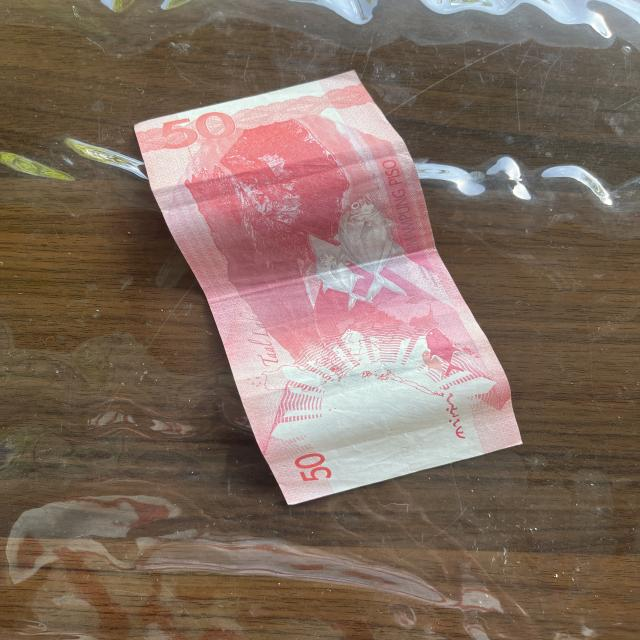50_maliputo: (295, 194, 425, 308)
50_maliputo_watermark: (412, 320, 473, 379)
value_watermark: (396, 440, 434, 460)
